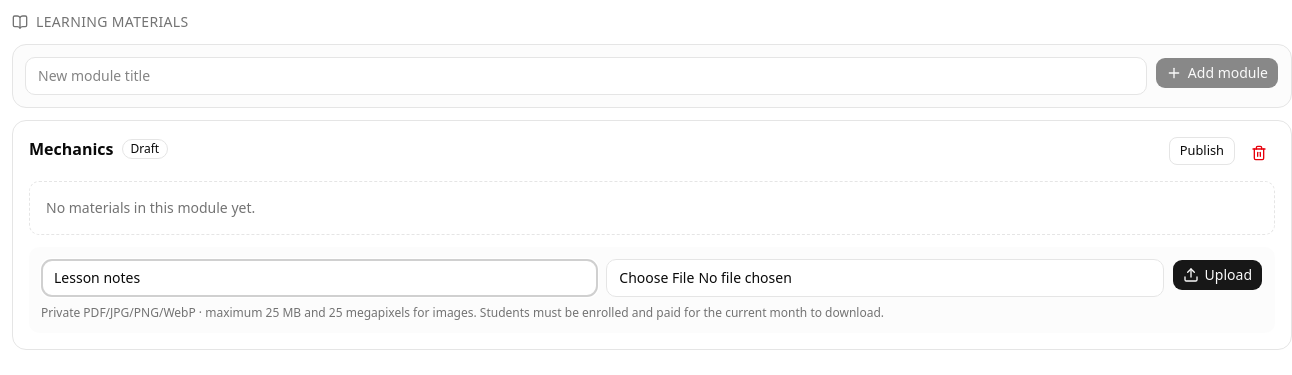
Test: CourseModules › presigns, uploads, and confirms a private material
This screenshot has width=1292, height=375.
Earlier steps of the test are not shown.
Click the button "Upload".
click(1217, 275)  # box [1172,259,1263,291]
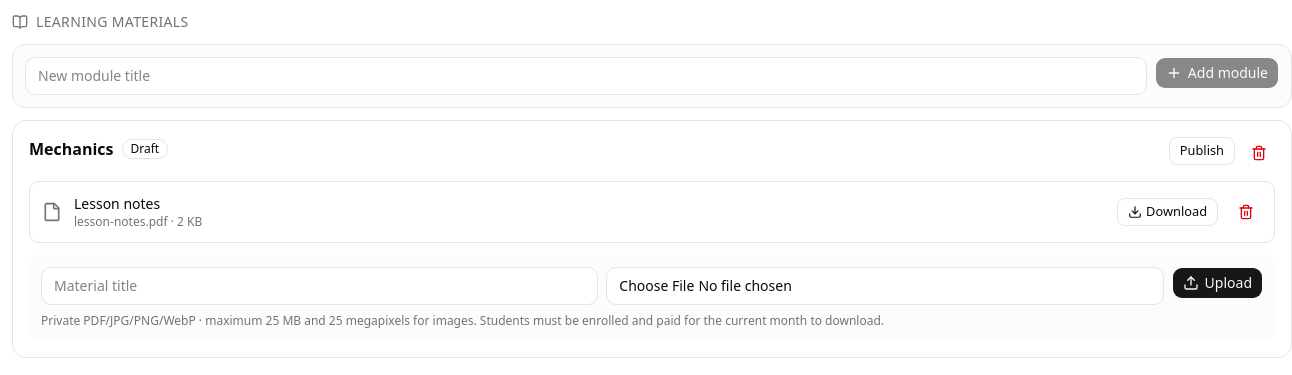
Now the text "lesson-notes.pdf · 2 KB" is shown, box [74,213,202,230]
